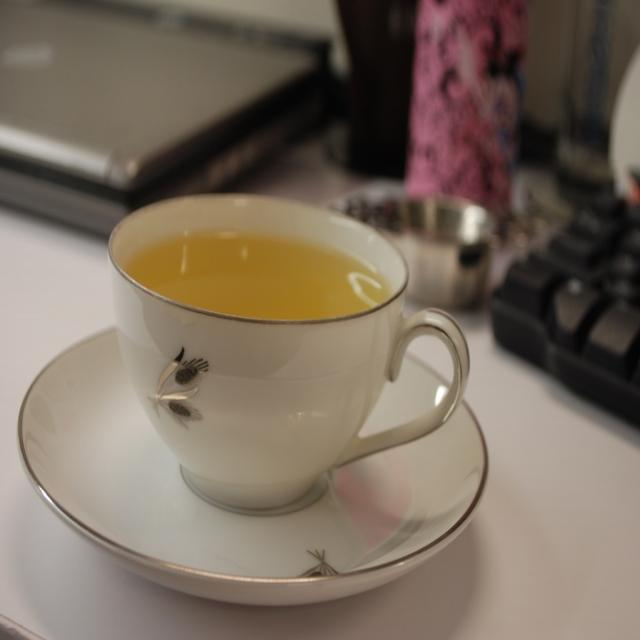Tea: (124, 227, 395, 316)
